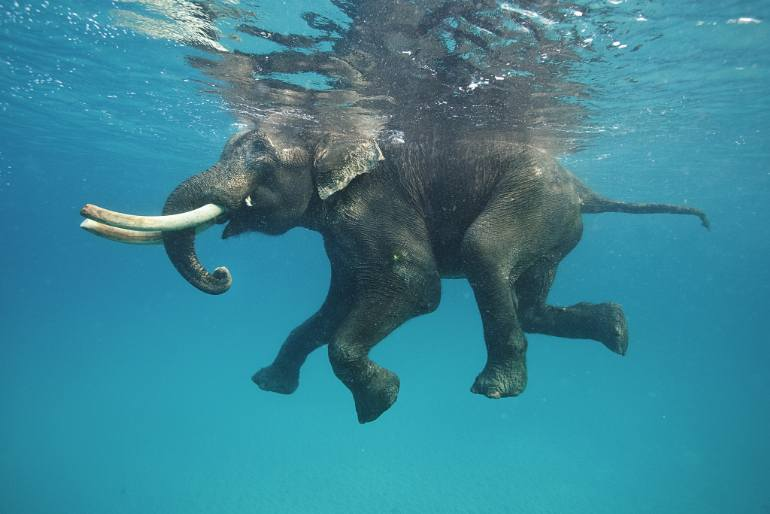elephant: (81, 110, 735, 419)
